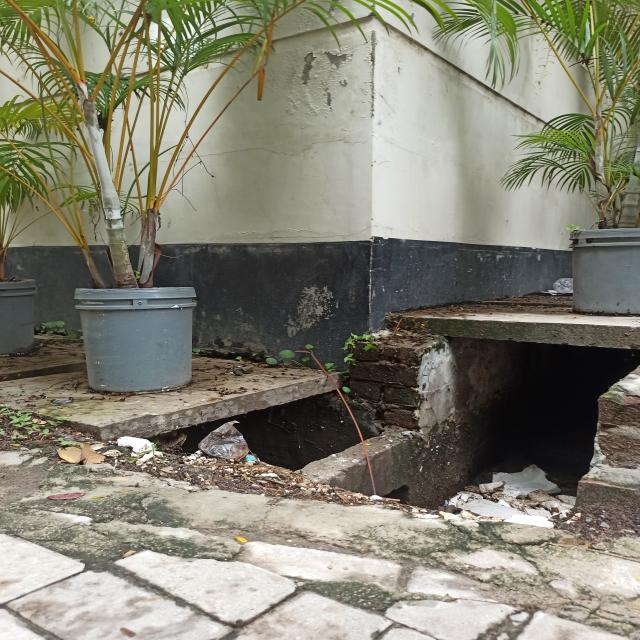artificial_container: (73, 286, 197, 392), (570, 227, 640, 316), (0, 277, 40, 358)
